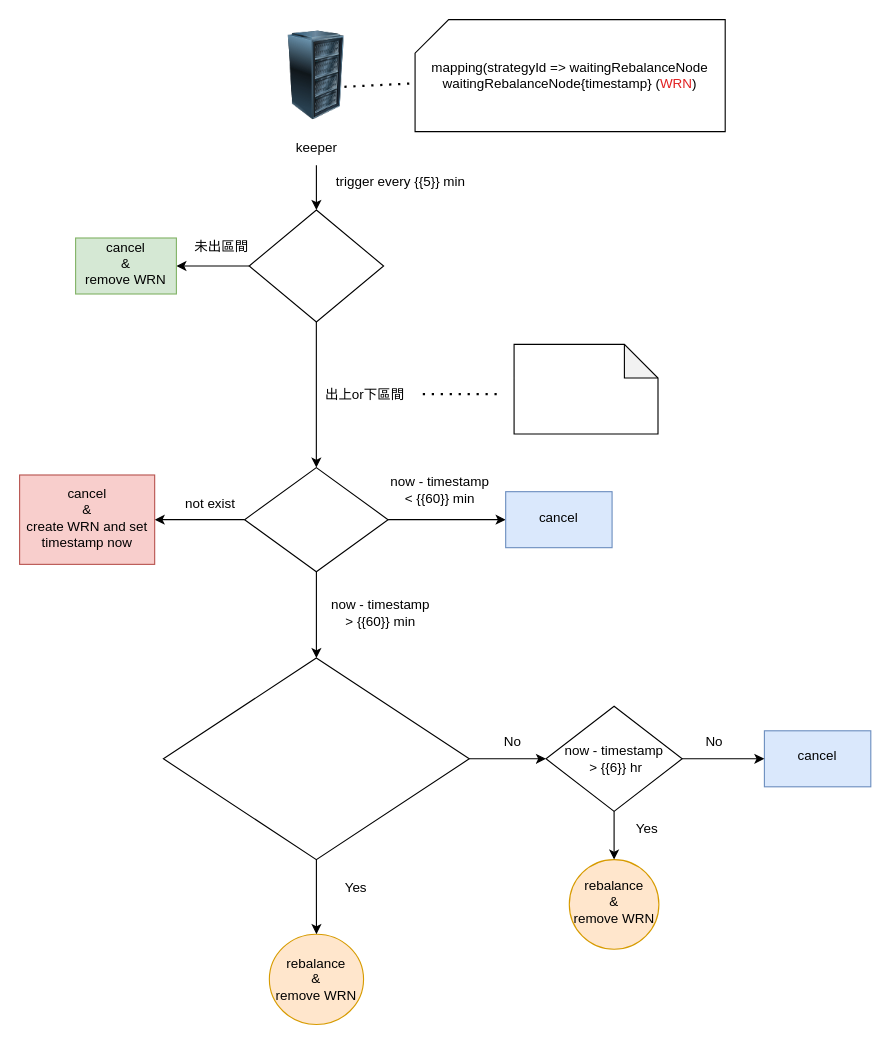
Image size: 890x1045. Some labels were removed from this diagram. The centre of each missing label's shape, as x and y in pixels:
check WRN: point 315,519
以下參數{{}} 皆是上下區間各一組，共兩組: point 585,388
偵測是否出區間: point 316,265
收入已{{3}}倍於此次Gas Fee && 尚未達到 {{rebalance次數上限}}: point 315,758
